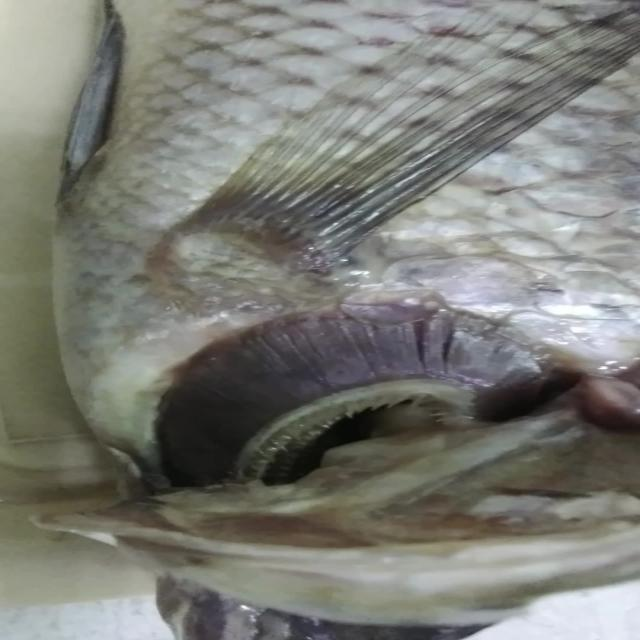Non-Fresh: (150, 290, 571, 482)
